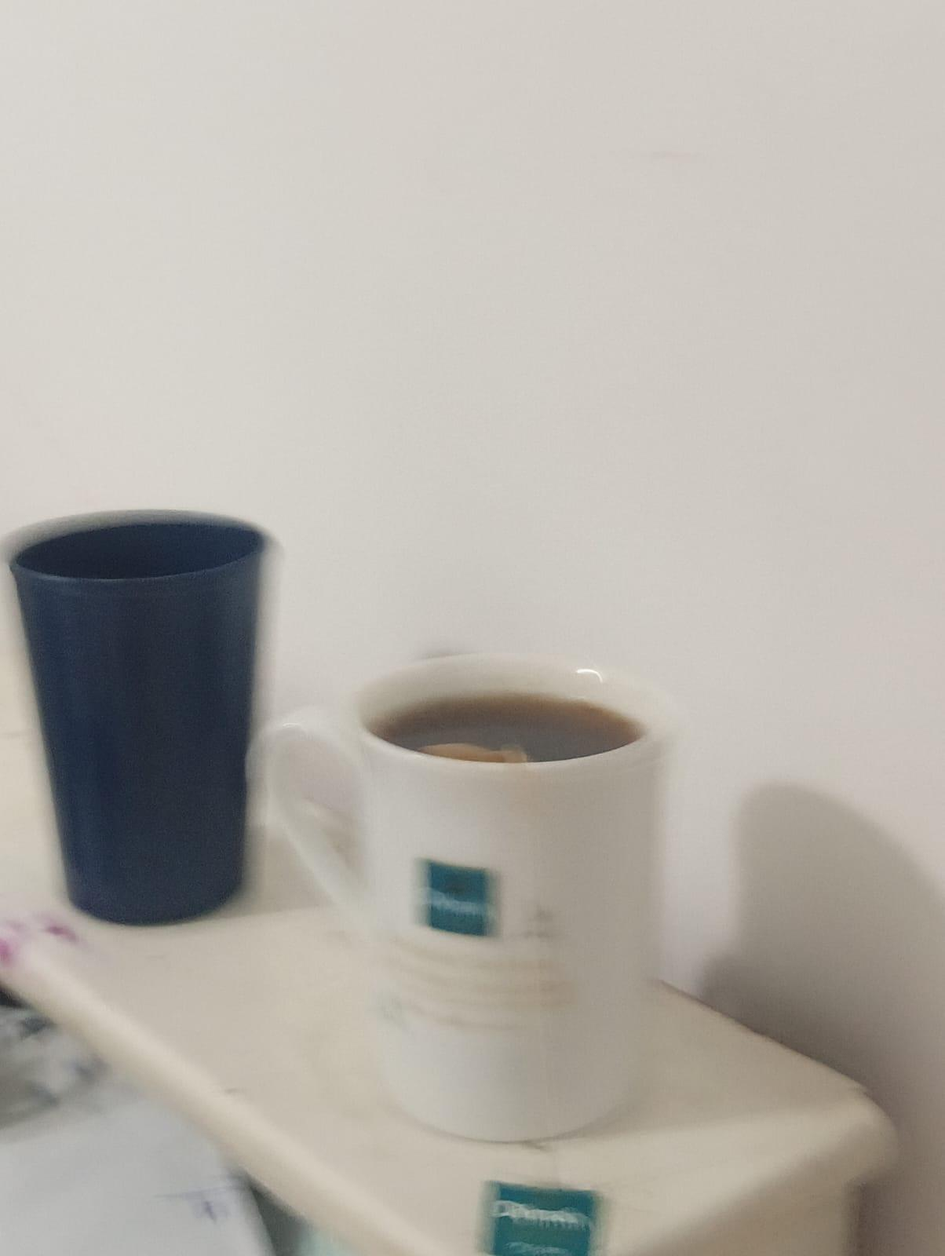cup: (259, 655, 670, 1140), (10, 512, 265, 923), (345, 655, 680, 791), (7, 510, 271, 595)
